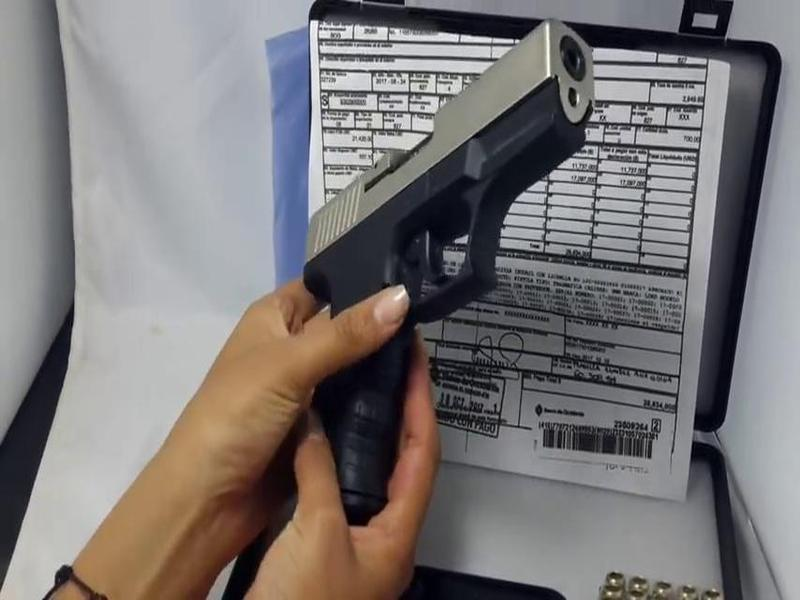Pistola: (289, 15, 618, 539)
